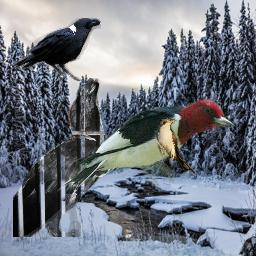Crow: (13, 78, 107, 237), (13, 18, 101, 82)
Cuckoo: (156, 118, 196, 176)
Woodpecker: (57, 91, 242, 198)
